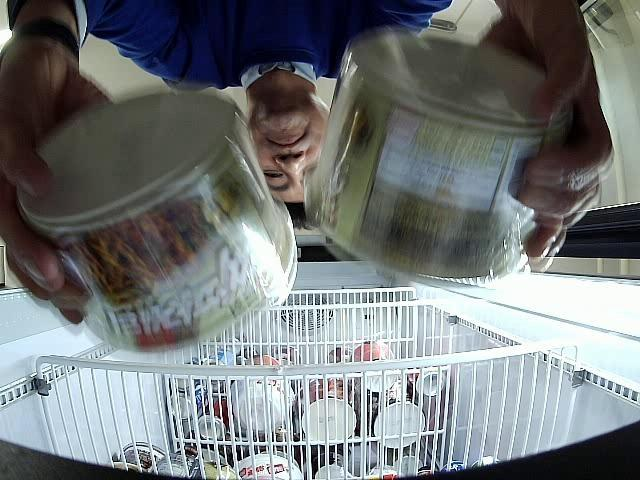03_chapagetti_L: (15, 98, 296, 362), (305, 30, 575, 285)
